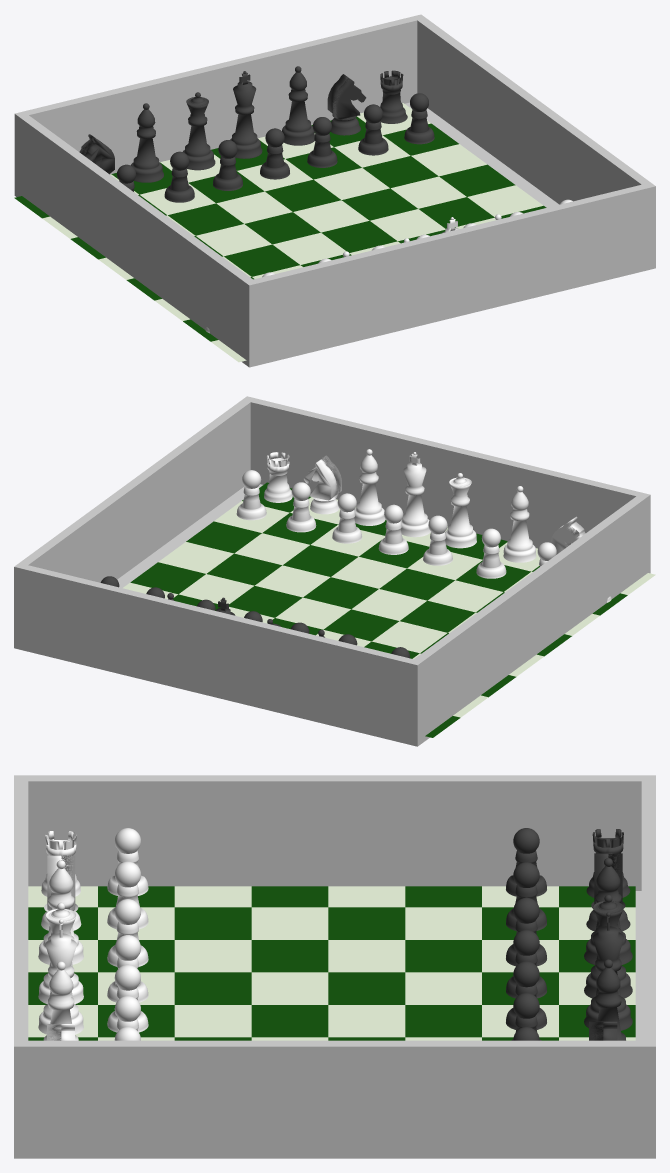
File: chess pieces.glb
3 renders of one model, top to bottom at view 1: azimuth 30°, elevation 25°; view 2: azimuth 150°, elevation 25°; view 3: azimuth 270°, elevation 25°, orthographic. The views are drawn at different scales.
Parts seen in each view (by area): view 1: Cube, Plane, Cylinder.026, Cylinder.028, Cylinder.025, Cylinder.027, Cylinder.031, Cylinder.024, Cylinder.010, Cylinder, Cylinder.012, Cylinder.014 (+3 smaller); view 2: Cube, Plane, Cylinder.006, Cylinder.005, Cylinder.004, Cylinder.009, Cylinder.003, Cylinder.002, Cylinder.020, Cylinder.017, Cylinder.018, Cylinder.001 (+3 smaller); view 3: Cube, Plane, Cylinder.026, Cylinder.006, Cylinder.009, Cylinder.027, Cylinder.031, Cylinder.025, Cylinder.005, Cylinder.003, Cylinder.022, Cylinder.015 (+15 smaller).
Part boxes in pixels (<box>): Cube: <box>14,14,655,367</box>; Plane: <box>14,103,546,362</box>; Cylinder.026: <box>230,71,262,158</box>; Cylinder.028: <box>327,74,366,135</box>; Cylinder.025: <box>282,66,314,145</box>; Cylinder.027: <box>183,92,215,170</box>; Cylinder.031: <box>130,103,163,182</box>; Cylinder.024: <box>380,70,407,123</box>; Cylinder.010: <box>358,104,388,155</box>; Cylinder: <box>404,93,434,144</box>; Cylinder.012: <box>260,128,289,179</box>; Cylinder.014: <box>164,151,194,202</box>; Cube: <box>14,396,650,746</box>; Plane: <box>123,482,655,737</box>; Cylinder.006: <box>400,452,430,537</box>; Cylinder.005: <box>445,473,476,548</box>; Cylinder.004: <box>303,455,341,514</box>; Cylinder.009: <box>503,486,536,562</box>; Cylinder.003: <box>354,449,385,525</box>; Cylinder.002: <box>264,452,292,502</box>; Cylinder.020: <box>423,515,452,565</box>; Cylinder.017: <box>286,482,316,532</box>; Cylinder.018: <box>332,493,362,543</box>; Cylinder.001: <box>236,470,266,520</box>; Cube: <box>14,775,655,1158</box>; Plane: <box>28,886,635,1040</box>; Cylinder.026: <box>584,912,632,1030</box>; Cylinder.006: <box>38,919,83,1034</box>; Cylinder.009: <box>38,860,83,964</box>; Cylinder.027: <box>584,895,632,998</box>; Cylinder.031: <box>584,858,632,965</box>; Cylinder.025: <box>595,959,625,1040</box>; Cylinder.005: <box>38,902,83,1003</box>; Cylinder.003: <box>43,961,78,1040</box>; Cylinder.022: <box>107,861,148,929</box>; Cylinder.015: <box>506,862,546,930</box>.
Bounding box in the file's own units: 5.17 × 1.02 × 5.07.
